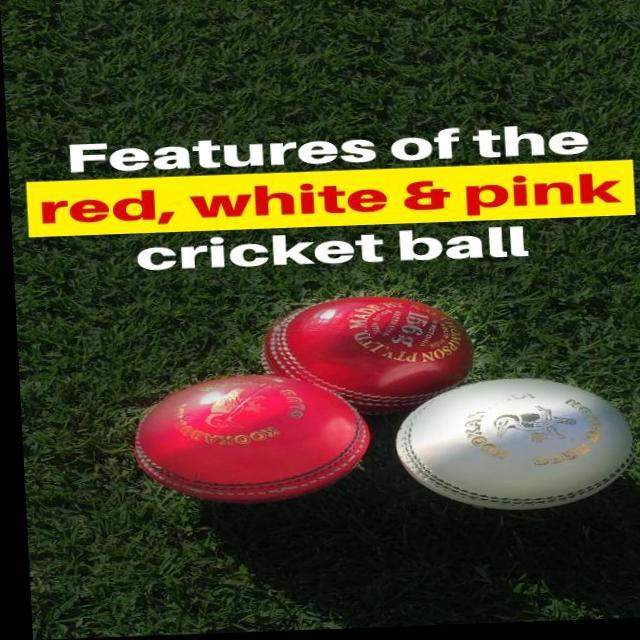cricket ball: (389, 383, 632, 514), (131, 377, 366, 508), (259, 300, 471, 416)
